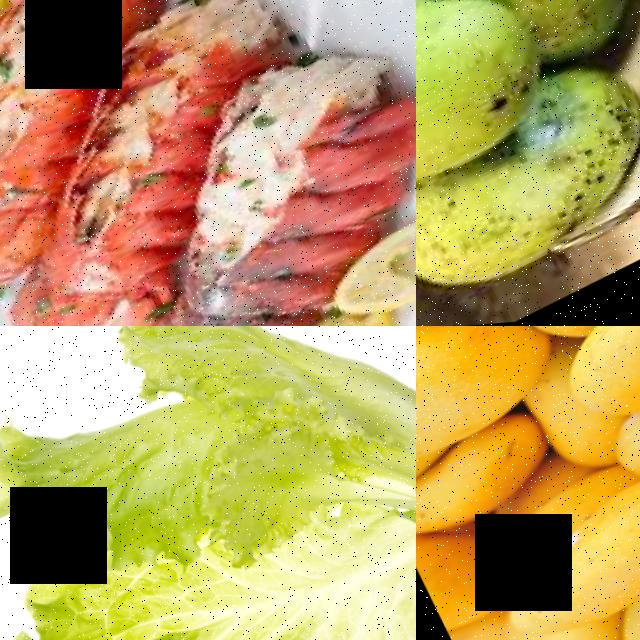lettuce: (0, 326, 416, 640)
lobster tails: (136, 44, 416, 326), (0, 130, 234, 326), (0, 70, 121, 318)
mango: (465, 452, 640, 640), (416, 0, 506, 281)
